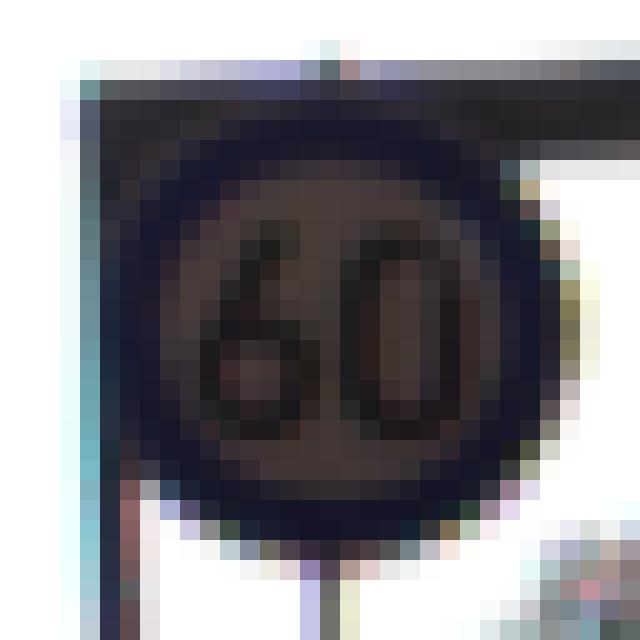SPEED-LIMIT-60: (104, 92, 578, 577)
